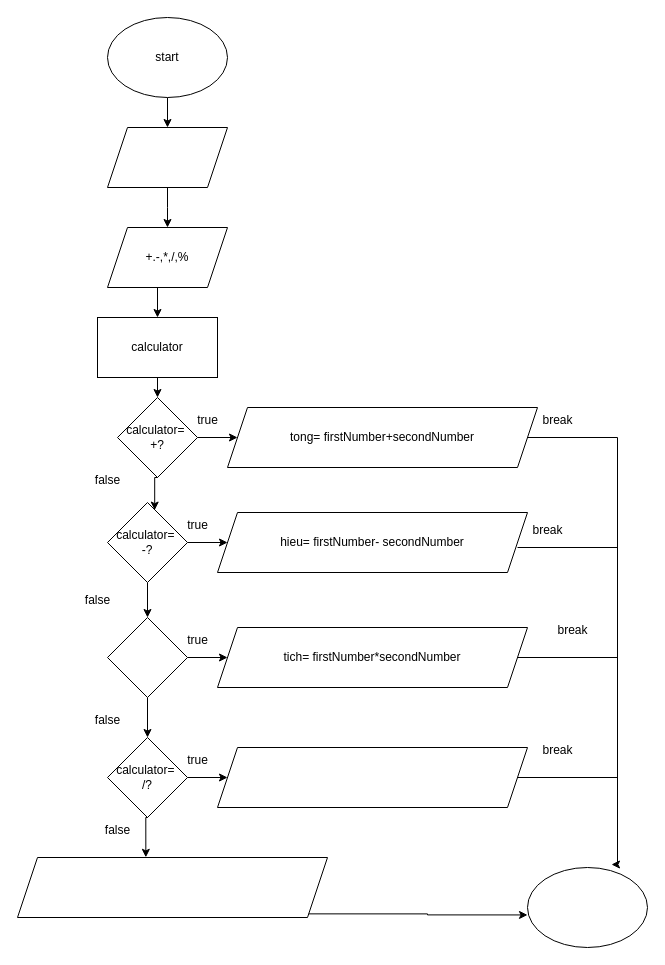
The diagram is 665 pixels wide and 965 high, and some of its shapes have lost their labels. Each missing label, with the centre of its shape:
calculator= *?: the point at 147,657
chia lay du= firstNumber% secondNumber: the point at 172,887
end: the point at 587,907
firstNumber secondNumber: the point at 167,157
thuong= firstNumber/ secondNumber: the point at 372,777
